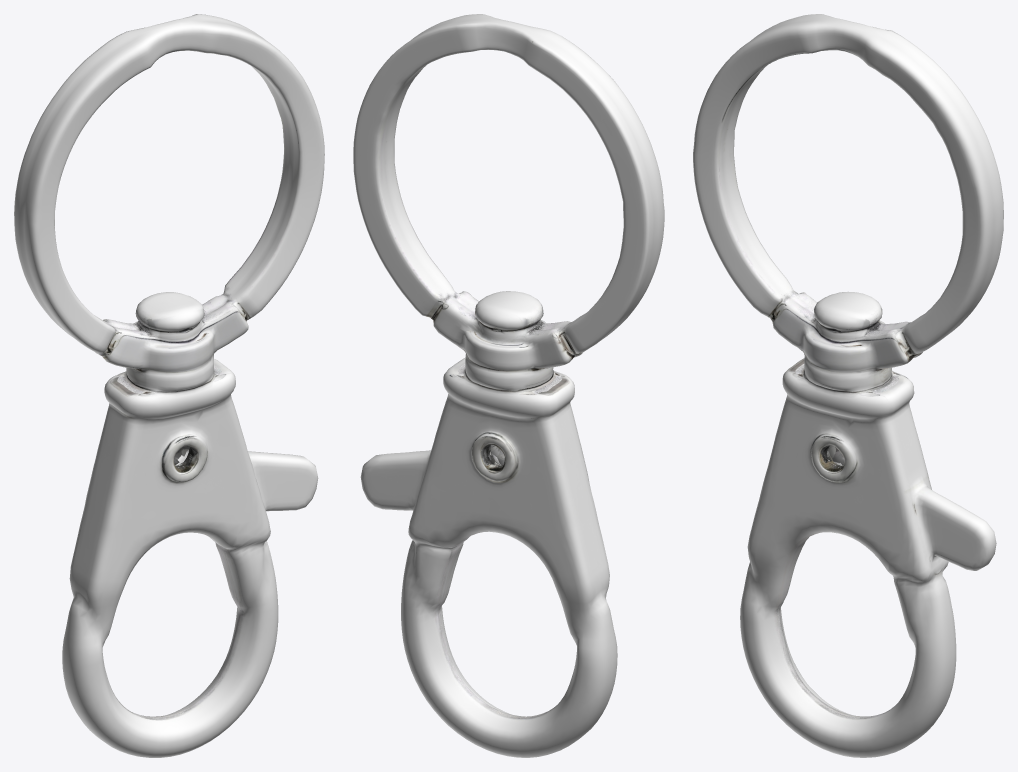
File: keychain_clip.glb
3 views of the same model, side by side, from view 1: azimuth 30°, elevation 25°; view 2: azimuth 150°, elevation 25°; view 3: azimuth 330°, elevation 25° (orthographic).
Visible parts, largest first — view 1: Object_4; view 2: Object_4; view 3: Object_4.
Boxes of the visible parts, x1,y1,x2,y2 form: Object_4: (14, 14, 324, 757); Object_4: (353, 14, 664, 757); Object_4: (693, 14, 1003, 757).
Size of the model in its own units: 0.8121 by 1.91 by 0.2063.
1 material, 1 textured.
